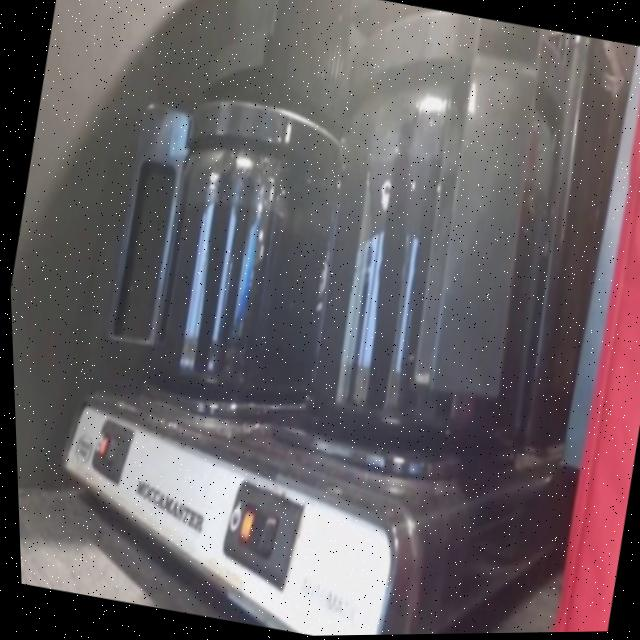coffee: (301, 111, 562, 448), (141, 158, 340, 402)
